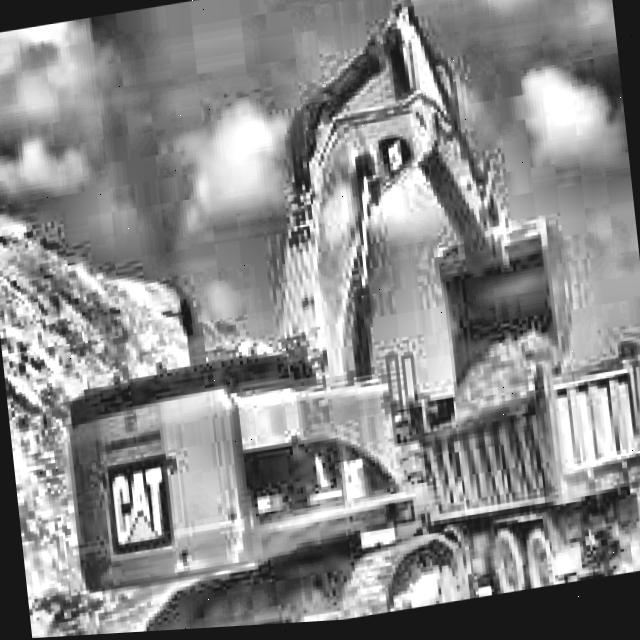dump_truck: (431, 352, 640, 607)
excavator: (16, 0, 611, 639)
